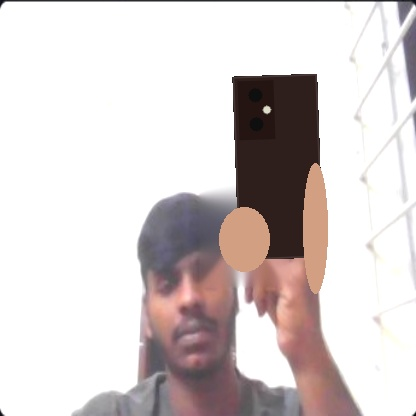cell_phone: (232, 74, 323, 260)
